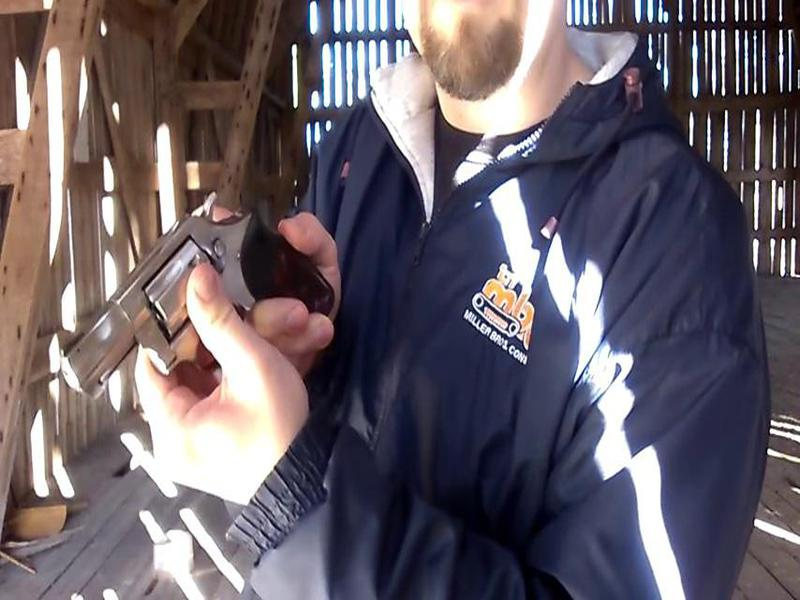Revolver: (35, 181, 324, 410)
